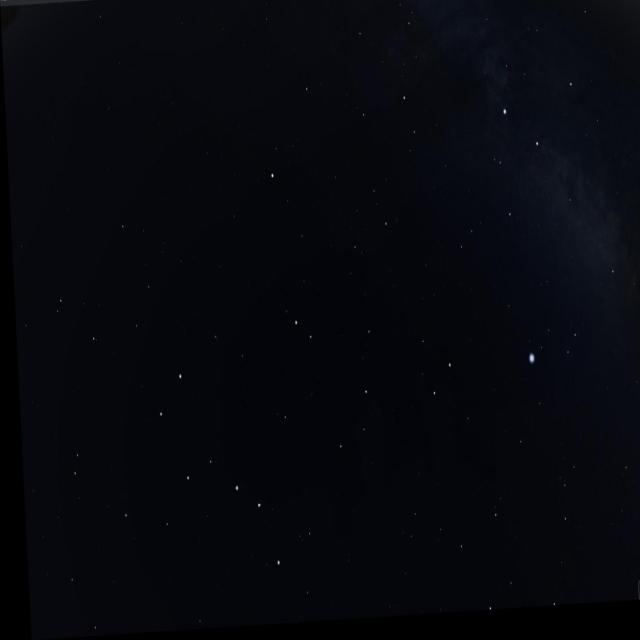cygnus: (481, 72, 627, 311)
lyra: (522, 320, 581, 378)
